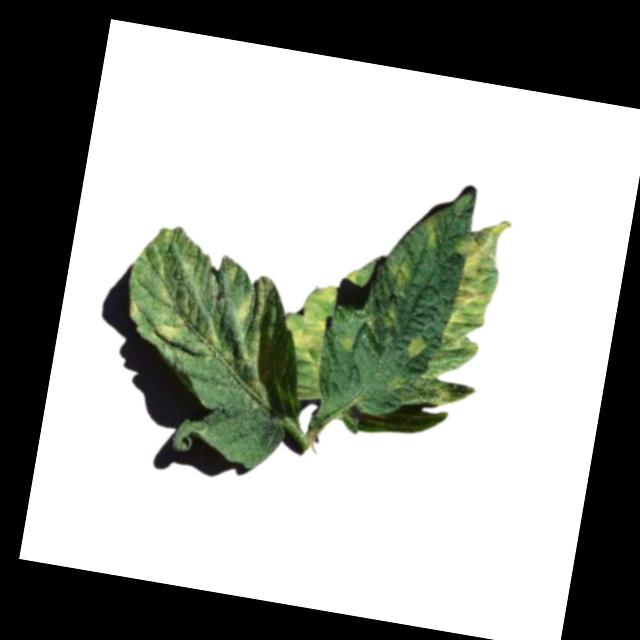Leaf_Mold: (437, 211, 510, 381), (278, 277, 338, 366), (382, 247, 418, 300), (148, 306, 186, 346), (229, 288, 256, 324), (400, 330, 428, 359), (125, 292, 147, 323)
